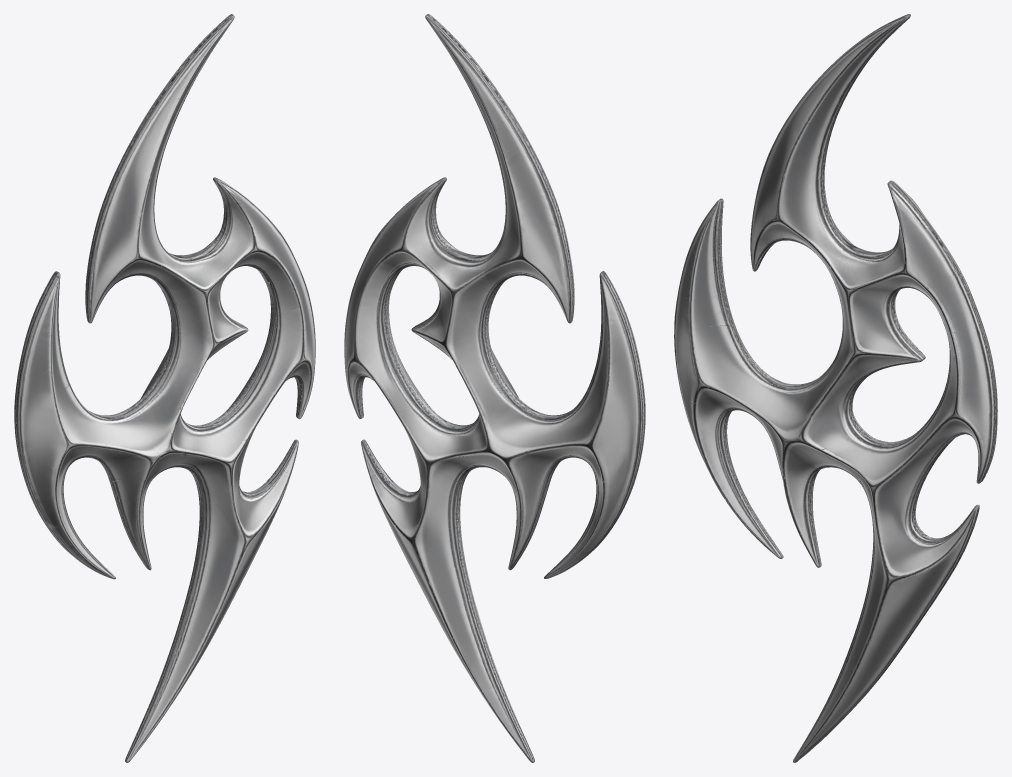
Rendered from blade.glb.
3 renders of one model, left to right at view 1: azimuth 30°, elevation 25°; view 2: azimuth 150°, elevation 25°; view 3: azimuth 330°, elevation 25°, orthographic. The views are drawn at different scales.
Size of the model in its own units: 0.8212 by 1.9 by 0.1828.
Materials: 1 (1 with a texture image).
